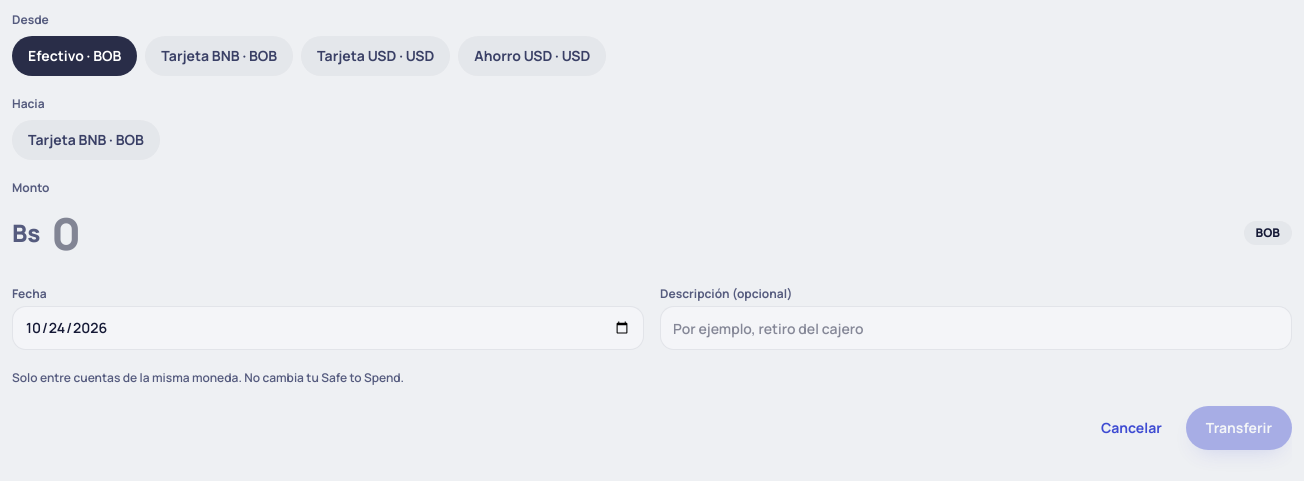
Test: TransferForm › changing the origin's currency clears the destination
Click the radio button labelled "Tarjeta BNB · BOB" below "Hacia" at {"x": 86, "y": 140}, box left=12, top=120, right=160, bottom=160
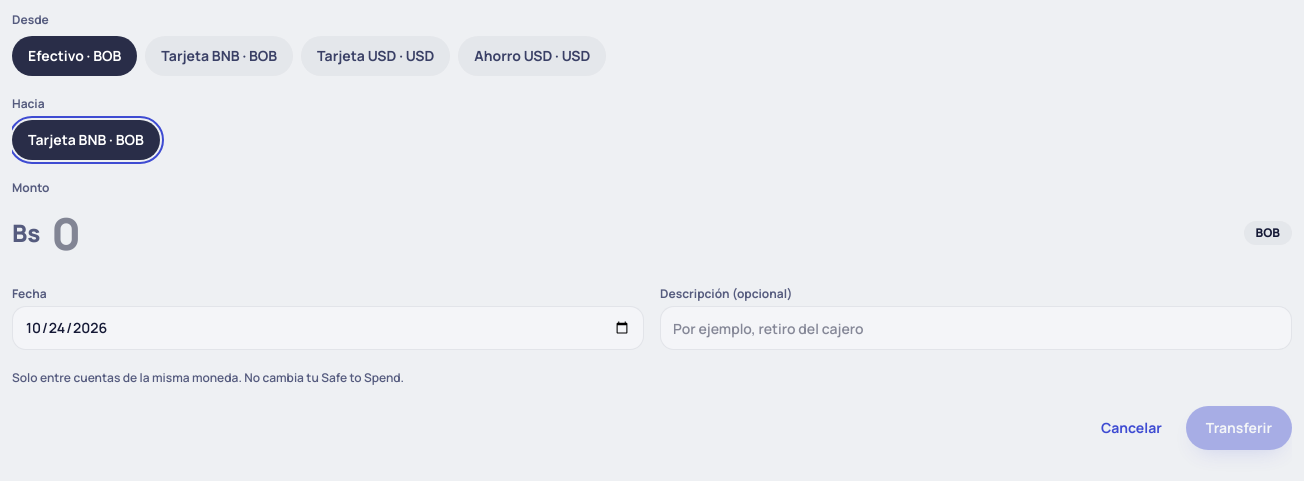
Type "100" into the field with placeholder "0" at {"x": 642, "y": 233}, box left=52, top=200, right=1232, bottom=266
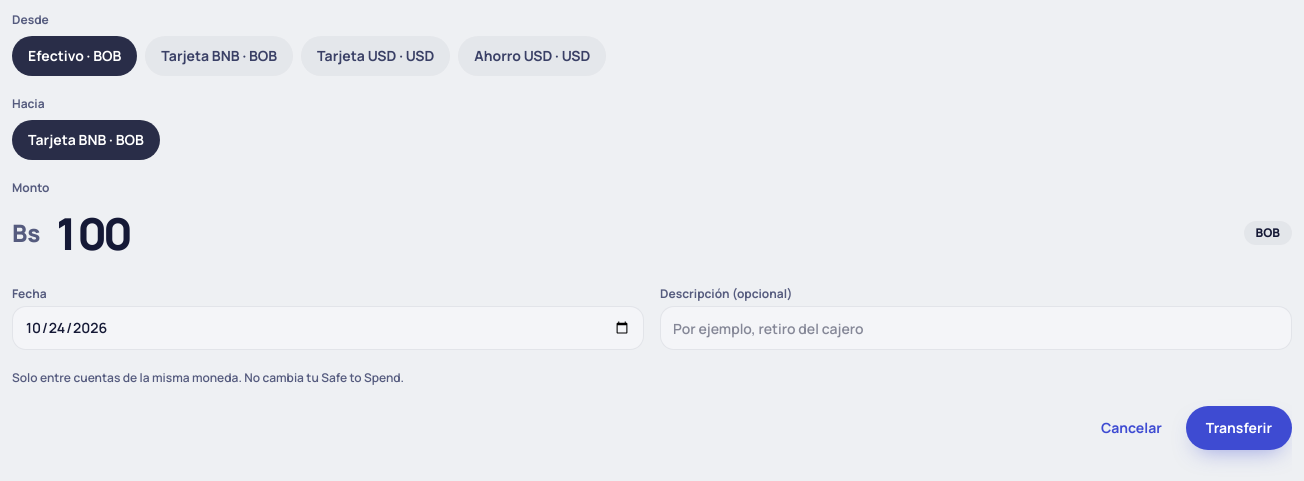
Click the radio button labelled "Tarjeta USD · USD" at {"x": 376, "y": 56}, box left=301, top=36, right=450, bottom=76
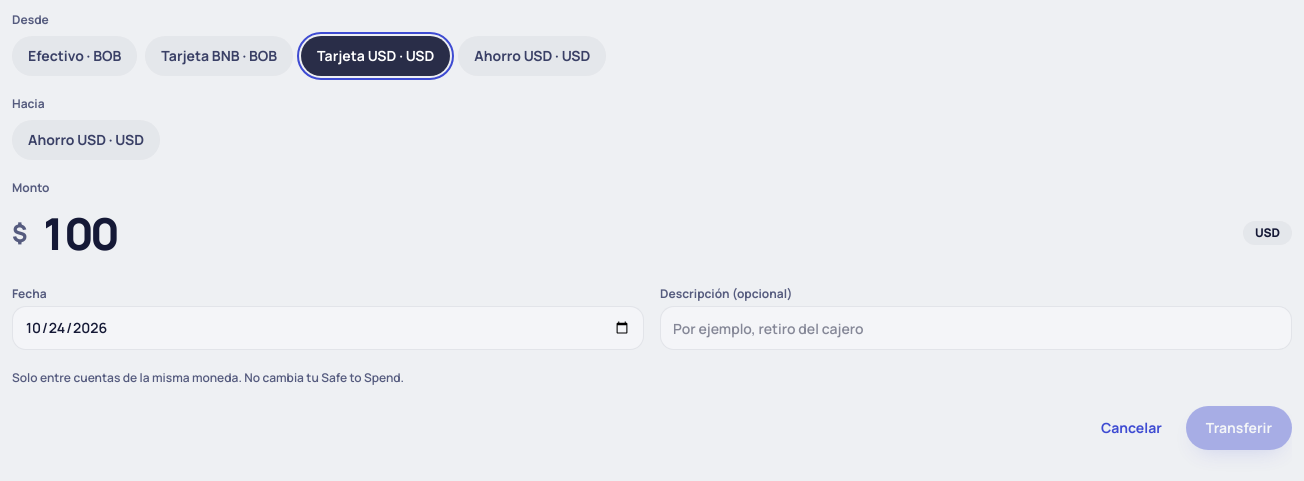
Now the button "Transferir" is disabled, box left=1186, top=406, right=1292, bottom=450
